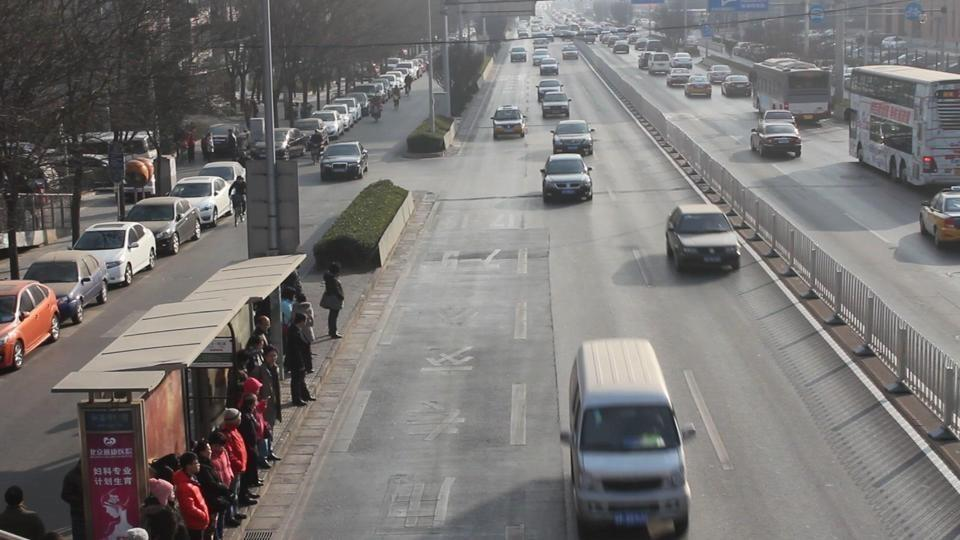car: (565, 336, 693, 539), (23, 253, 109, 324), (70, 221, 158, 288), (0, 279, 61, 374), (664, 204, 741, 273), (123, 196, 201, 257), (168, 176, 236, 228), (539, 153, 594, 204), (750, 110, 803, 160), (919, 186, 960, 244), (319, 141, 371, 182), (197, 160, 247, 198), (551, 119, 595, 155), (202, 124, 239, 160), (491, 105, 528, 140), (540, 89, 571, 119), (685, 72, 712, 98), (722, 74, 751, 98), (666, 67, 693, 88), (537, 78, 562, 98), (707, 64, 732, 84), (510, 45, 528, 63)
